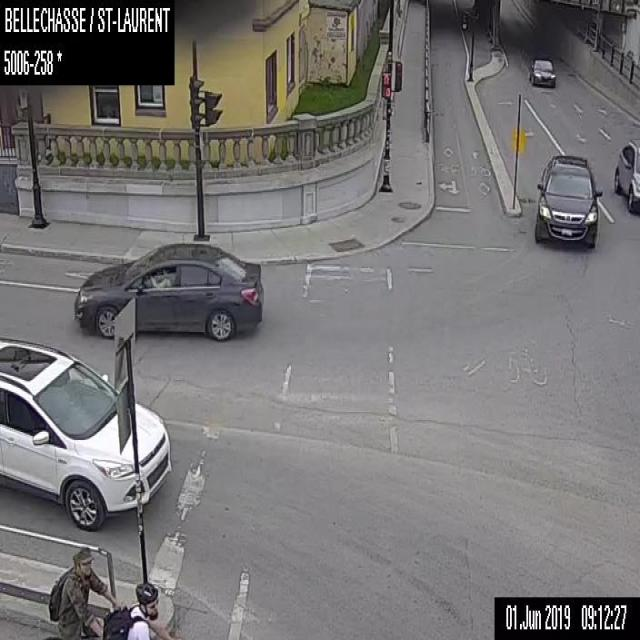cyclist: (48, 548, 119, 638), (102, 580, 173, 638)
vehicle: (0, 335, 172, 529), (73, 240, 263, 340), (534, 154, 602, 248), (613, 138, 639, 213), (529, 58, 556, 85)
